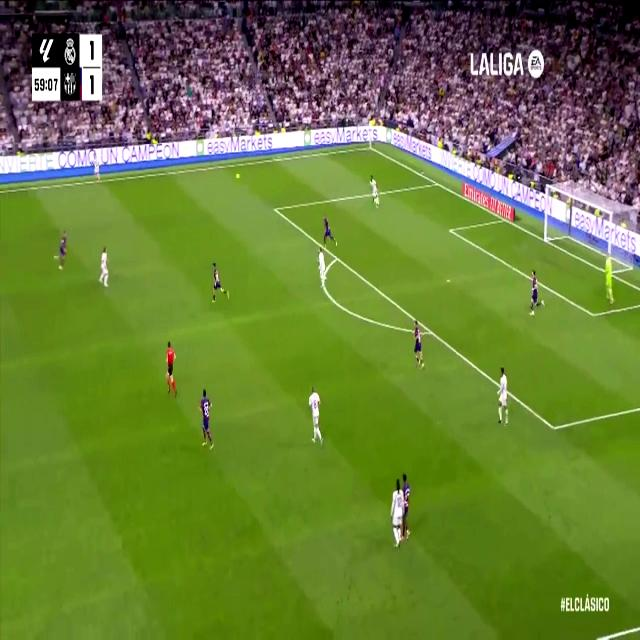bigarea_bottom_inner: (548, 414, 560, 440)
bigarea_top_outter: (433, 176, 440, 188)
bottom_arc_area_intersection: (425, 322, 435, 340)
corner: (366, 142, 374, 152)
smallarea_bottom_inner: (588, 305, 598, 324)
smallarea_top_inner: (446, 222, 454, 238)
top_arc_area_intersection: (333, 251, 339, 264)
